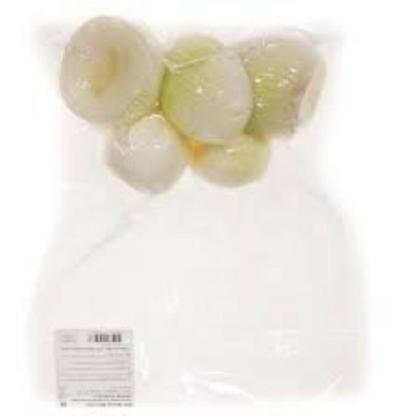onion: (59, 12, 321, 222)
